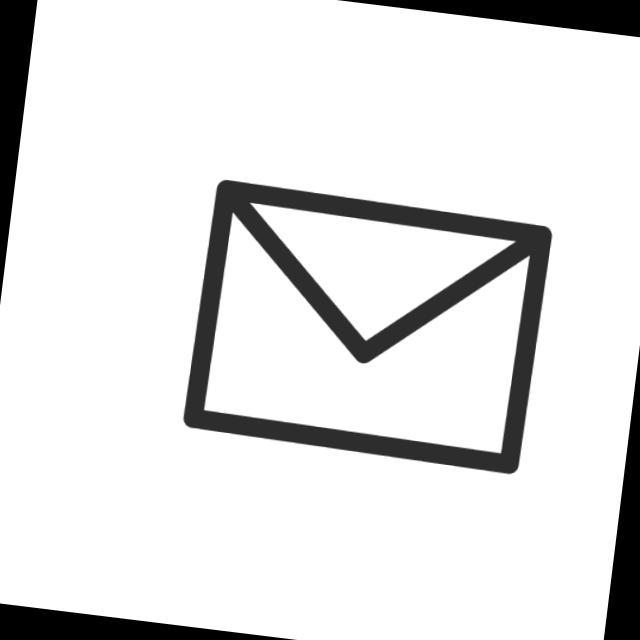letter: (179, 178, 558, 481)
